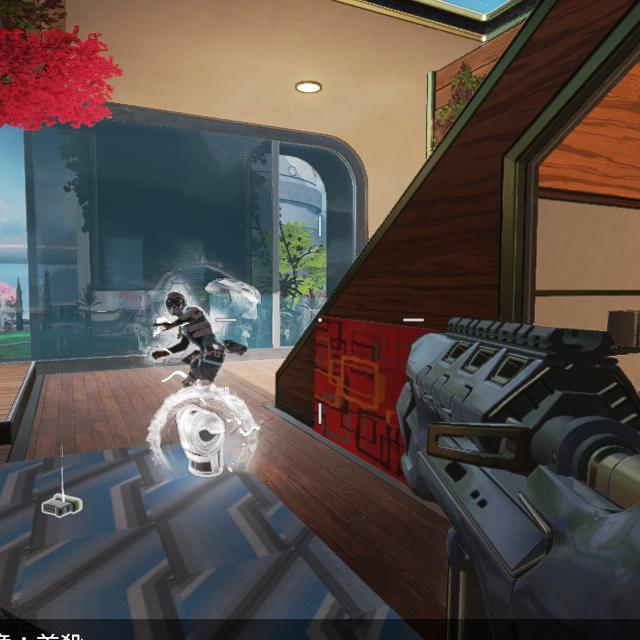avatar: (151, 292, 226, 390)
